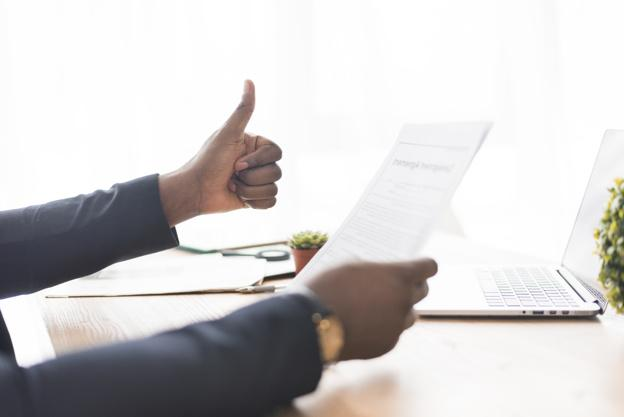thumbsup: (223, 78, 283, 210)
